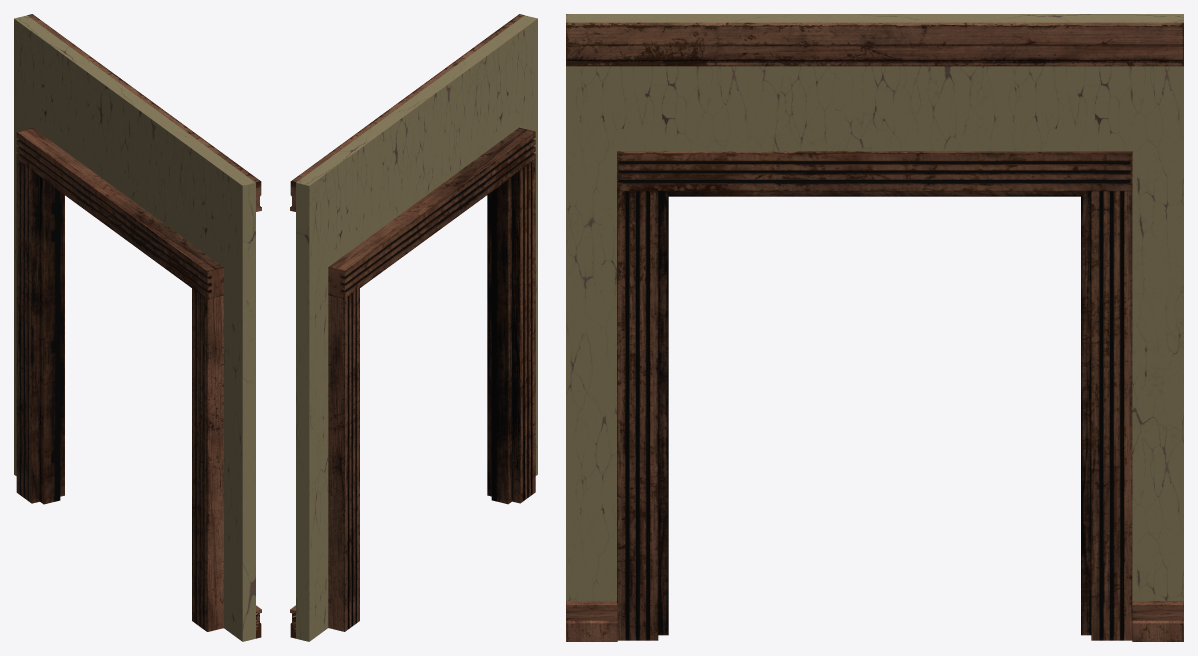
Rendered from Wall_3m_Doorway_C.fbx.
3 renders of one model, left to right at view 1: azimuth 30°, elevation 25°; view 2: azimuth 150°, elevation 25°; view 3: azimuth 270°, elevation 25°, orthographic. The views are drawn at different scales.
Visible parts, largest first — view 1: Wall_3m_Doorway_A.002; view 2: Wall_3m_Doorway_A.002; view 3: Wall_3m_Doorway_A.002.
Part boxes in pixels (x1,y1,x2,y2): Wall_3m_Doorway_A.002: [14, 14, 261, 641]; Wall_3m_Doorway_A.002: [290, 14, 537, 641]; Wall_3m_Doorway_A.002: [566, 14, 1183, 641].
Bounding box in the file's own units: 0.2708 × 3.3 × 3.
